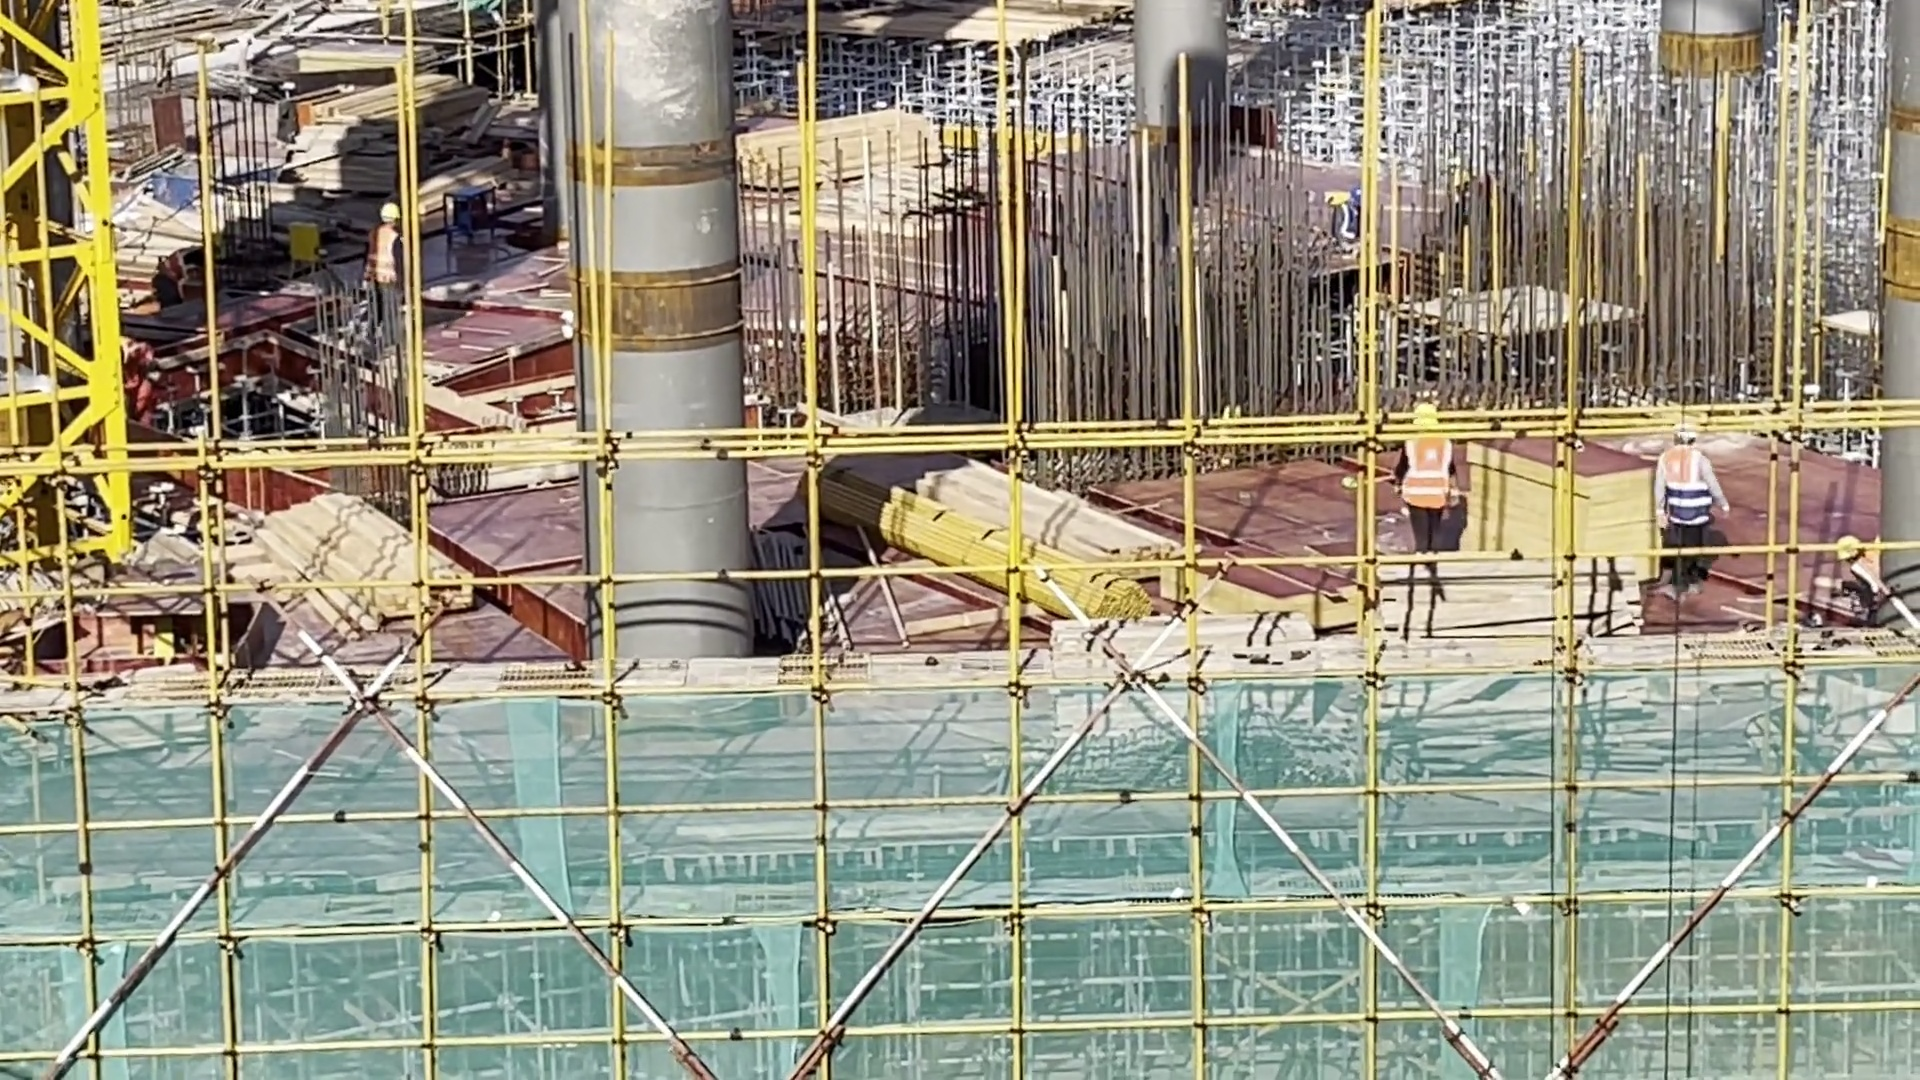person: (1659, 418, 1729, 604), (1388, 397, 1465, 551), (367, 201, 404, 288)
vest: (1657, 443, 1721, 532), (1397, 434, 1454, 507)
